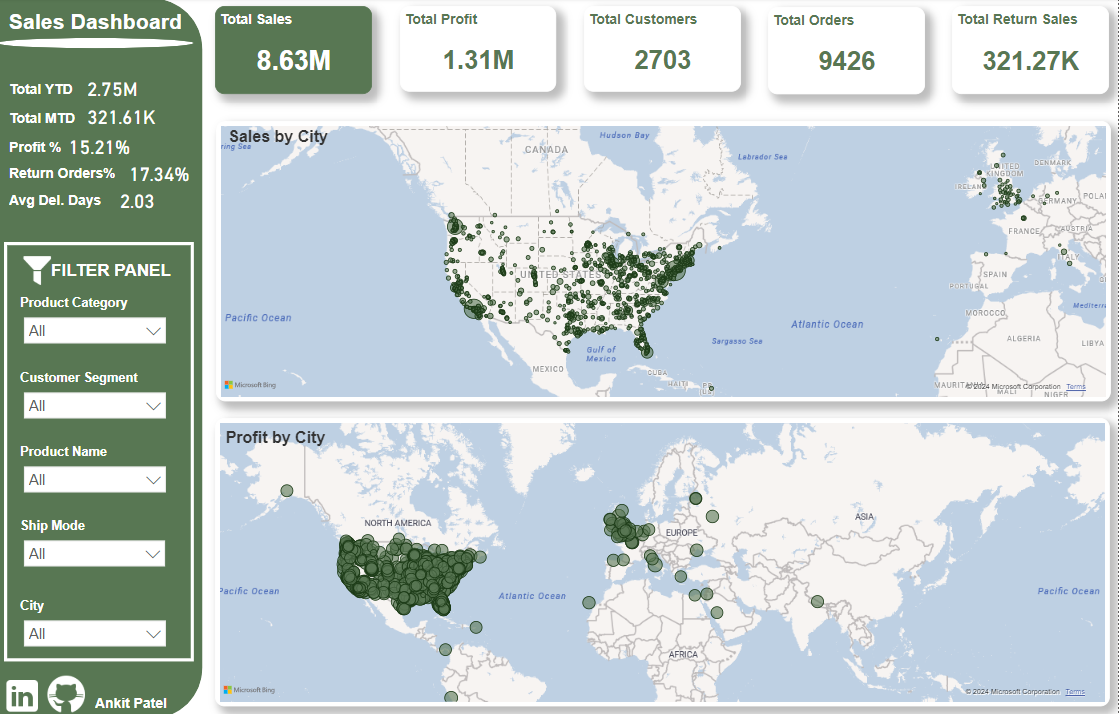

What the dashboard file says about the page in this screenshot:
{"tool":"powerbi","page":{"name":"Page 1","canvas":[1400,900],"ordinal":0},"visuals":[{"type":"shape","box":[0,0,256.6,899.9],"z":0},{"type":"shape","box":[8.5,304.8,237.1,523.6],"z":1000},{"type":"textbox","box":[0,10.2,245.8,52.8],"z":2000},{"type":"image","box":[50.1,839,72.8,60.9],"z":3000},{"type":"image","box":[0,842.6,63.3,57.3],"z":4000},{"type":"actionButton","title":"Ankit Patel","box":[121.7,870.1,95.5,26.3],"z":5000},{"type":"image","box":[18.3,316.1,63.5,49.4],"z":6000},{"type":"actionButton","title":"FILTER PANEL","box":[67.7,328.8,153.8,25.4],"z":7000},{"type":"slicer","title":"Product Category","fields":{"Values":["Orders.Product Category"]},"box":[23.9,372.4,196.9,77.6],"z":8000},{"type":"slicer","title":"Customer Segment","fields":{"Values":["Orders.Customer Segment"]},"box":[23.9,465.2,196.9,77.6],"z":9000},{"type":"slicer","title":"Product Name","fields":{"Values":["Orders.Product Name"]},"box":[23.9,558,196.9,77.6],"z":10000},{"type":"slicer","title":"Ship Mode","fields":{"Values":["Orders.Ship Mode"]},"box":[24,650.8,196.2,84.7],"z":11000},{"type":"slicer","title":"City","fields":{"Values":["Orders.City"]},"box":[23.9,750.7,196.9,77.6],"z":12000},{"type":"card","title":"Total Sales","fields":{"Values":["Measures Table.Total Sales"]},"box":[271.6,9.8,196.4,110],"z":13000},{"type":"card","title":"Total Profit","fields":{"Values":["Measures Table.Total Profit"]},"box":[502.9,9.8,195,107.3],"z":14000},{"type":"card","title":"Total Customers","fields":{"Values":["Measures Table.Total Customers"]},"box":[732.7,9.8,196.4,107.3],"z":15000},{"type":"card","title":"Total Return Sales","fields":{"Values":["Measures Table.Total Return Sales"]},"box":[1192.4,9.8,196.4,110],"z":16000},{"type":"card","title":"Total Orders","fields":{"Values":["Measures Table.Total Orders"]},"box":[962.6,11.1,196.4,108.7],"z":17000},{"type":"shape","box":[0,49.4,245.6,12.7],"z":18000},{"type":"card","fields":{"Values":["Measures Table.Total YTD"]},"box":[97.9,95.5,93.1,35.8],"z":19000},{"type":"card","fields":{"Values":["Measures Table.Total MTD"]},"box":[97.4,128.4,115.7,39.5],"z":20000},{"type":"card","fields":{"Values":["Measures Table.Return orders %"]},"box":[156.7,200.4,93.1,36.7],"z":21000},{"type":"card","fields":{"Values":["Measures Table.Profit %"]},"box":[52.2,169.4,151,31],"z":22000},{"type":"actionButton","title":"Total YTD","box":[15.5,103.8,95.5,27.5],"z":23000},{"type":"actionButton","title":"Total MTD","box":[15.5,139.7,96,28.2],"z":24000},{"type":"actionButton","title":"Profit %","box":[15.5,175.7,96,22.6],"z":25000},{"type":"actionButton","title":"Return Orders%","box":[15.5,208.9,141.1,28.2],"z":26000},{"type":"barChart","fields":{"Category":["Orders.Product Container"],"Y":["Measures Table.Total Orders"]},"box":[274.5,132.5,549,248.3],"z":27000},{"type":"barChart","fields":{"Category":["Orders.Order Priority"],"Y":["Measures Table.Total Sales"]},"box":[831.6,132.3,558.6,248],"z":28000},{"type":"barChart","fields":{"Category":["Orders.Product Name"],"Y":["Measures Table.Total Sales"]},"box":[274.4,390,548.9,243.8],"z":29000},{"type":"barChart","fields":{"Category":["Orders.Customer Name"],"Y":["Measures Table.Total Sales"]},"box":[831.6,390,558.6,243.8],"z":30000},{"type":"donutChart","fields":{"Category":["Orders.Ship Mode"],"Y":["Measures Table.Total Sales"]},"box":[274.5,643.3,547.8,248.3],"z":31000},{"type":"donutChart","fields":{"Category":["Orders.Product Category"],"Y":["Measures Table.Total Sales"]},"box":[832,644,559,248],"z":32000},{"type":"actionButton","title":"Avg Del. Days","box":[15.5,242.7,141.1,28.2],"z":33000},{"type":"card","fields":{"Values":["Avg(Orders.Delivery Days)"]},"box":[128.4,232.9,93.1,38.1],"z":34000}]}

Visuals, with their boxes in screenshot pixels (x1, y1, x2, y2), scaled from the page's 1400x900 canvas onto the 1119x714 screenshot:
shape: region(0, 0, 205, 713)
shape: region(7, 242, 196, 657)
textbox: region(0, 8, 196, 50)
image: region(40, 666, 98, 713)
image: region(0, 668, 51, 713)
"Ankit Patel" actionButton: region(97, 690, 174, 711)
image: region(15, 251, 65, 290)
"FILTER PANEL" actionButton: region(54, 261, 177, 281)
"Product Category" slicer: region(19, 295, 176, 357)
"Customer Segment" slicer: region(19, 369, 176, 431)
"Product Name" slicer: region(19, 443, 176, 504)
"Ship Mode" slicer: region(19, 516, 176, 583)
"City" slicer: region(19, 596, 176, 657)
"Total Sales" card: region(217, 8, 374, 95)
"Total Profit" card: region(402, 8, 558, 93)
"Total Customers" card: region(586, 8, 743, 93)
"Total Return Sales" card: region(953, 8, 1110, 95)
"Total Orders" card: region(769, 9, 926, 95)
shape: region(0, 39, 196, 49)
card - Measures Table.Total YTD: region(78, 76, 153, 104)
card - Measures Table.Total MTD: region(78, 102, 170, 133)
card - Measures Table.Return orders %: region(125, 159, 200, 188)
card - Measures Table.Profit %: region(42, 134, 162, 159)
"Total YTD" actionButton: region(12, 82, 89, 104)
"Total MTD" actionButton: region(12, 111, 89, 133)
"Profit %" actionButton: region(12, 139, 89, 157)
"Return Orders%" actionButton: region(12, 166, 125, 188)
barChart - Orders.Product Container x Measures Table.Total Orders: region(219, 105, 658, 302)
barChart - Orders.Order Priority x Measures Table.Total Sales: region(665, 105, 1111, 302)
barChart - Orders.Product Name x Measures Table.Total Sales: region(219, 309, 658, 503)
barChart - Orders.Customer Name x Measures Table.Total Sales: region(665, 309, 1111, 503)
donutChart - Orders.Ship Mode x Measures Table.Total Sales: region(219, 510, 657, 707)
donutChart - Orders.Product Category x Measures Table.Total Sales: region(665, 511, 1112, 708)
"Avg Del. Days" actionButton: region(12, 193, 125, 215)
card - Avg(Orders.Delivery Days): region(103, 185, 177, 215)
